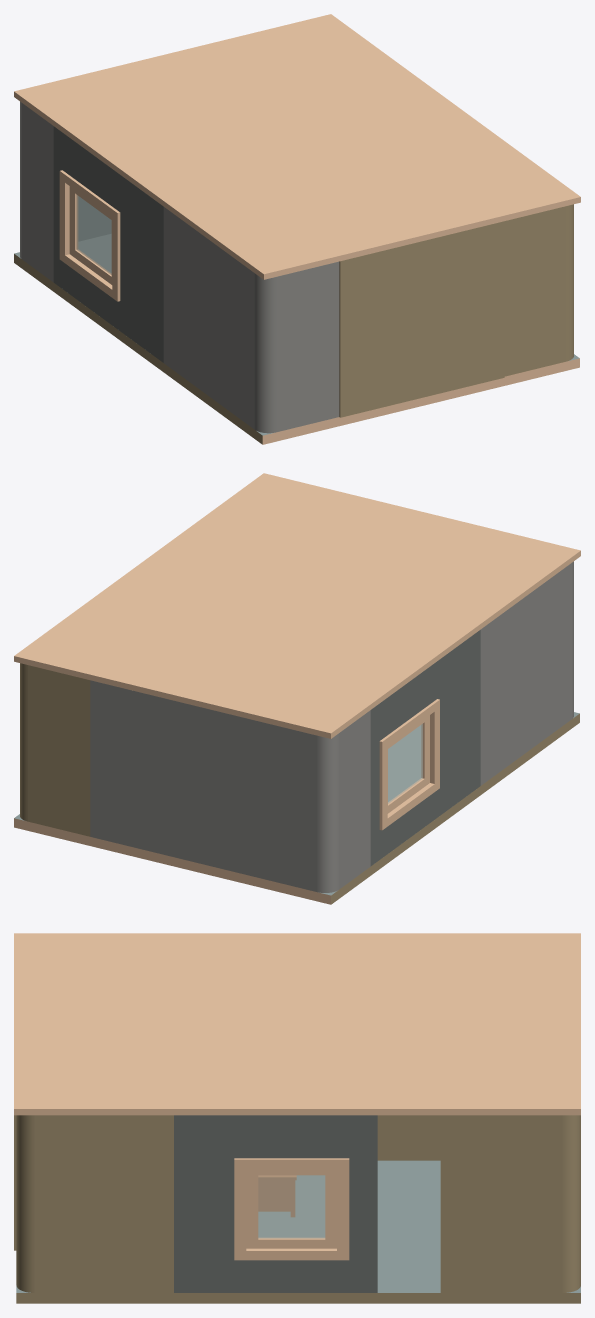
Rendered from untitledGOO22222.glb.
The picture shows the model from 3 angles, top to bottom: view 1: azimuth 30°, elevation 25°; view 2: azimuth 150°, elevation 25°; view 3: azimuth 270°, elevation 25°; orthographic projection. The views are drawn at different scales.
Parts seen in each view (by area): view 1: floorFull(Clone), wallCornerRond(Clone), wall(Clone).001, wallWindow(Clone).001, wallCornerRond(Clone).005, wallCornerRond(Clone).002, Floor.002, window.001; view 2: floorFull(Clone), wallCornerRond(Clone).002, wallCornerRond(Clone), wallWindow(Clone).001, wallCornerRond(Clone).007, Floor.002, window.001; view 3: floorFull(Clone), wallWindow(Clone), wallCornerRond(Clone).005, wallCornerRond(Clone).007, Floor.002, window, wall(Clone).004, desk.
Boxes of the visible parts, x1,y1,x2,y2 form: floorFull(Clone): (14,14,580,279); wallCornerRond(Clone): (163,207,339,433); wall(Clone).001: (339,221,504,417); wallWindow(Clone).001: (53,126,163,362); wallCornerRond(Clone).005: (504,204,573,376); wallCornerRond(Clone).002: (20,101,111,282); Floor.002: (14,234,579,444); window.001: (69,186,112,284); floorFull(Clone): (14,473,580,738); wallCornerRond(Clone).002: (90,680,370,892); wallCornerRond(Clone): (480,561,573,785); wallWindow(Clone).001: (370,630,480,866); wallCornerRond(Clone).007: (20,663,90,836); Floor.002: (14,712,579,904); window.001: (387,715,429,813); floorFull(Clone): (14,933,580,1115); wallWindow(Clone): (174,1115,377,1292); wallCornerRond(Clone).005: (16,1115,173,1292); wallCornerRond(Clone).007: (440,1115,580,1292); Floor.002: (16,1160,580,1303); window: (246,1168,336,1248); wall(Clone).004: (377,1115,440,1160); desk: (258,1175,296,1217).
Bounding box in the file's own units: 11.6 × 5.89 × 15.57.
